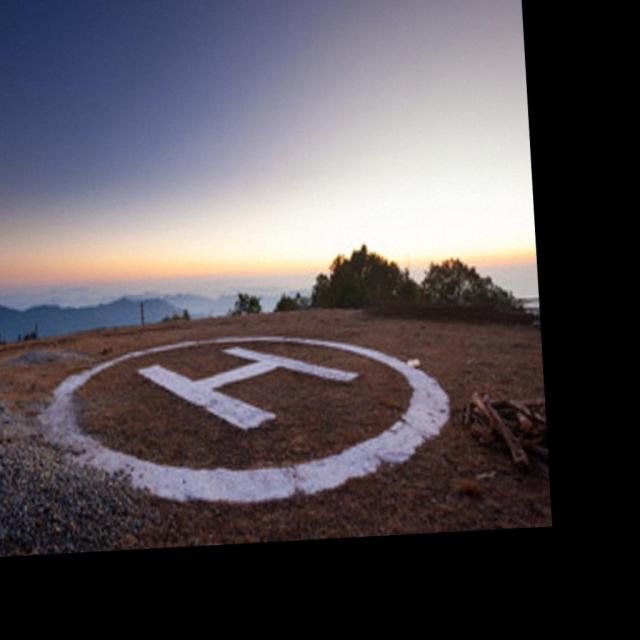helipad: (40, 331, 451, 509)
